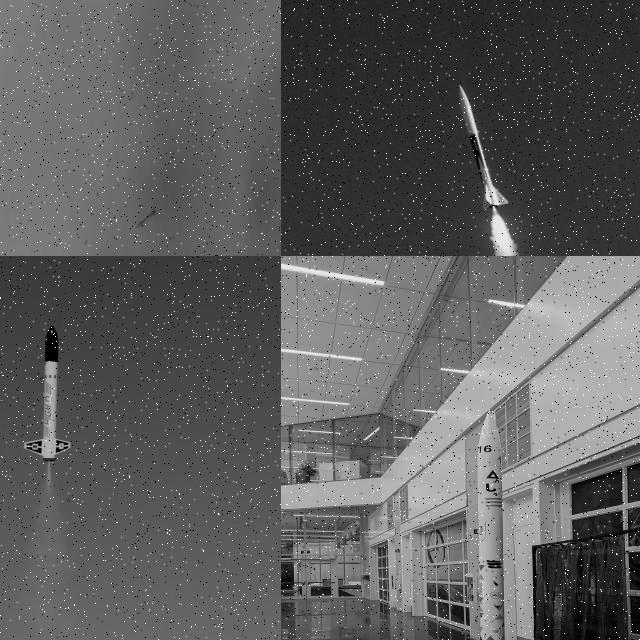Rocket: (22, 325, 71, 462), (457, 84, 509, 210), (477, 409, 505, 640), (136, 210, 156, 227)
